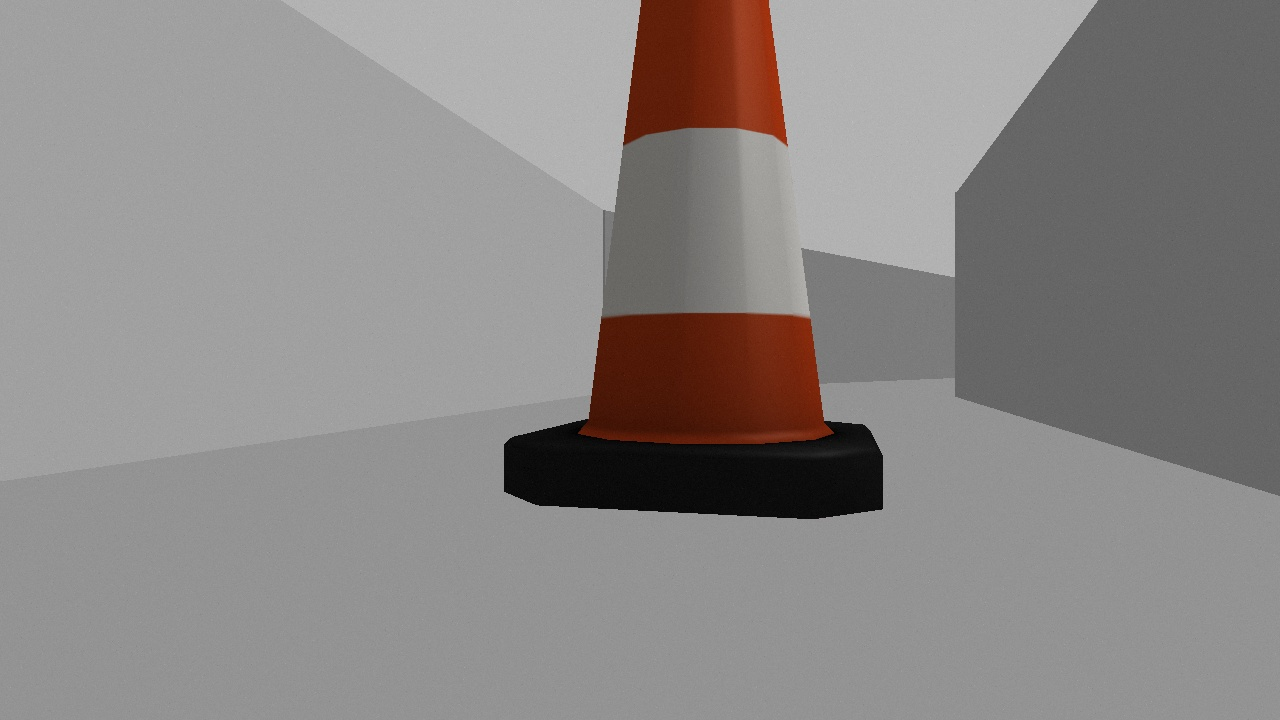barricade: (504, 1, 886, 517)
